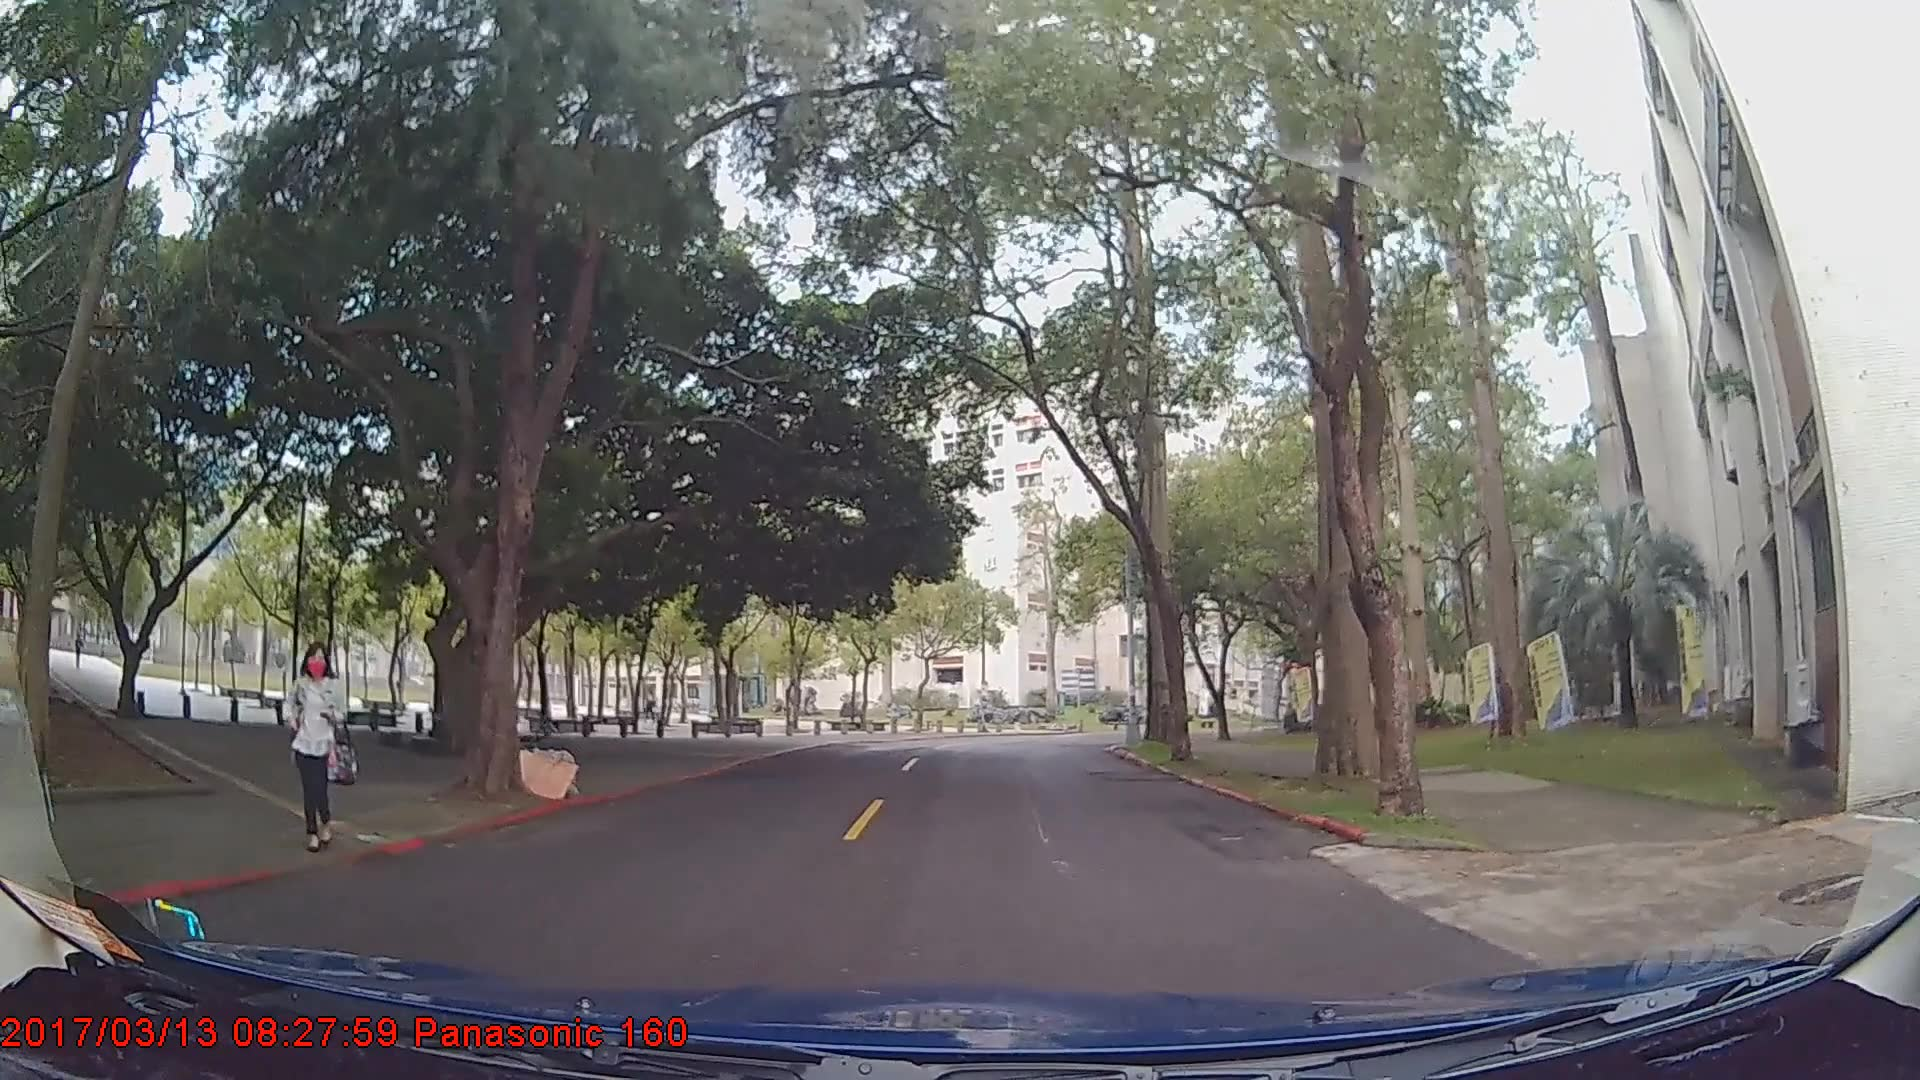pedestrian: (281, 637, 359, 850)
